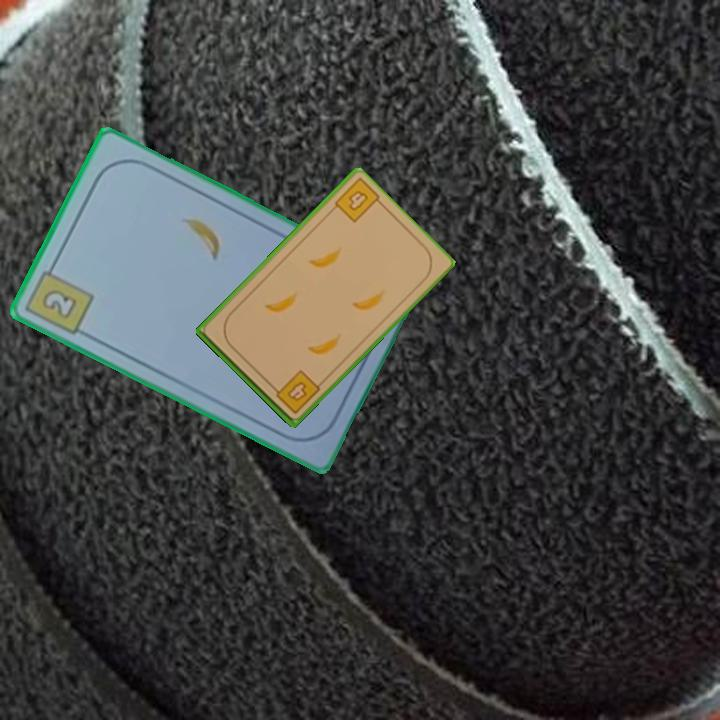2b: (22, 257, 97, 339)
4b: (267, 366, 323, 417), (345, 186, 371, 214)
